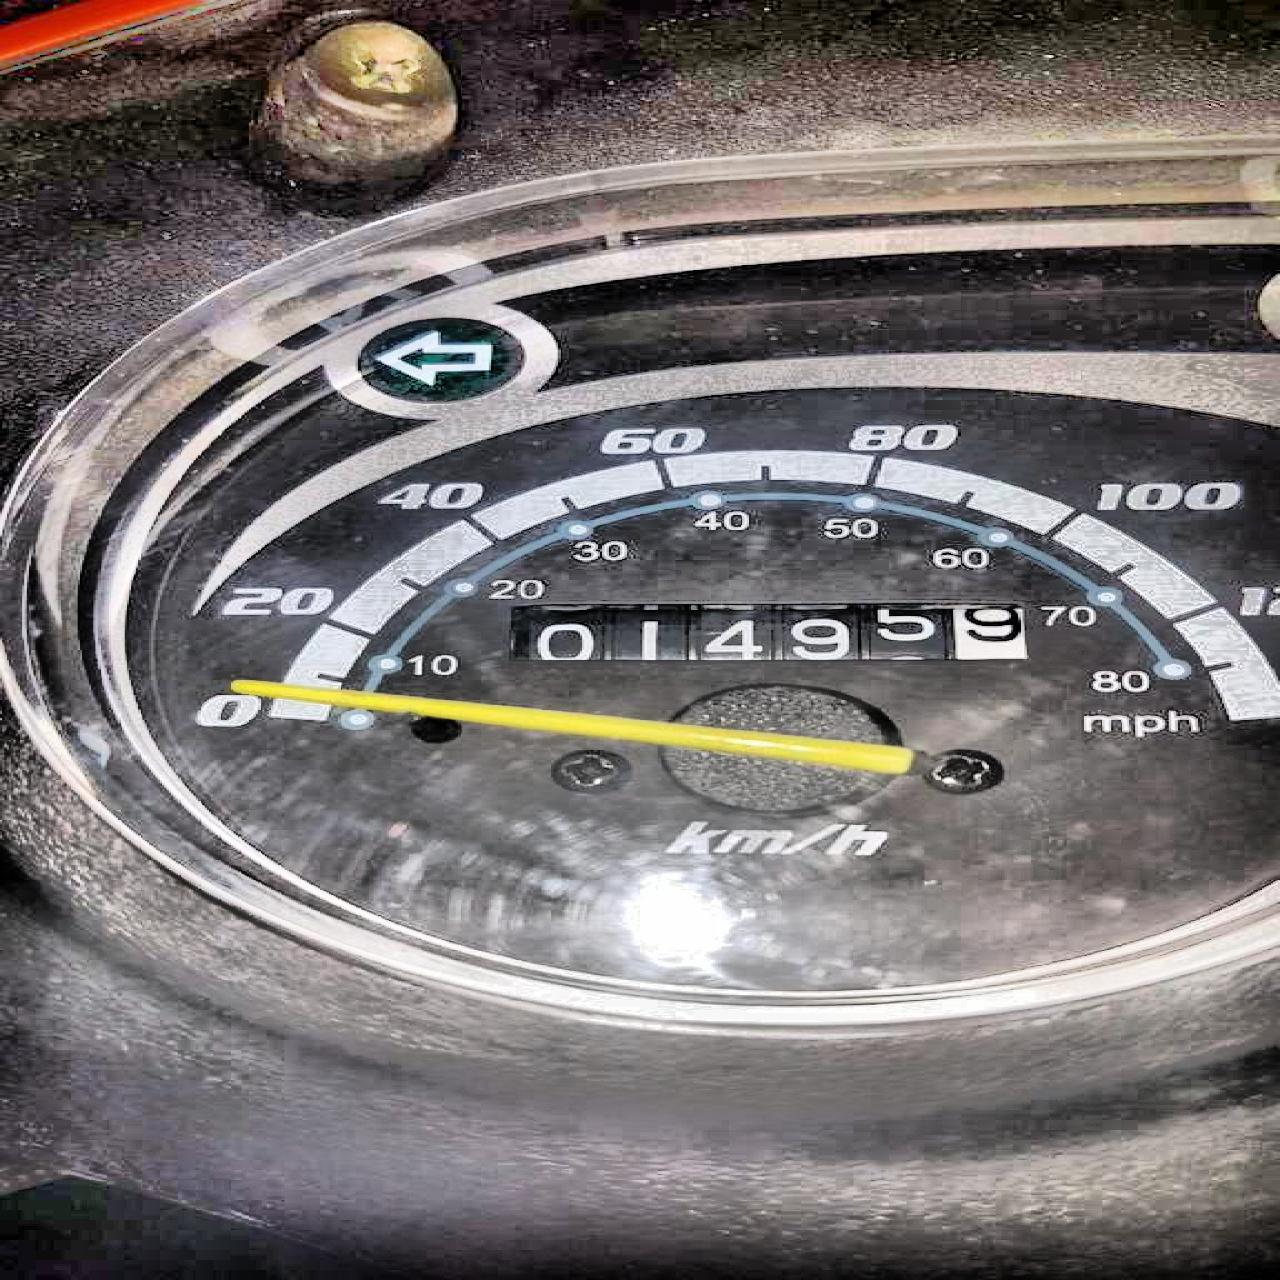0: (529, 620, 595, 660)
1: (625, 615, 669, 660)
4: (693, 617, 767, 661)
5: (869, 605, 938, 645)
9: (783, 614, 853, 661), (960, 604, 1027, 642)
odometer: (501, 595, 1040, 663)
